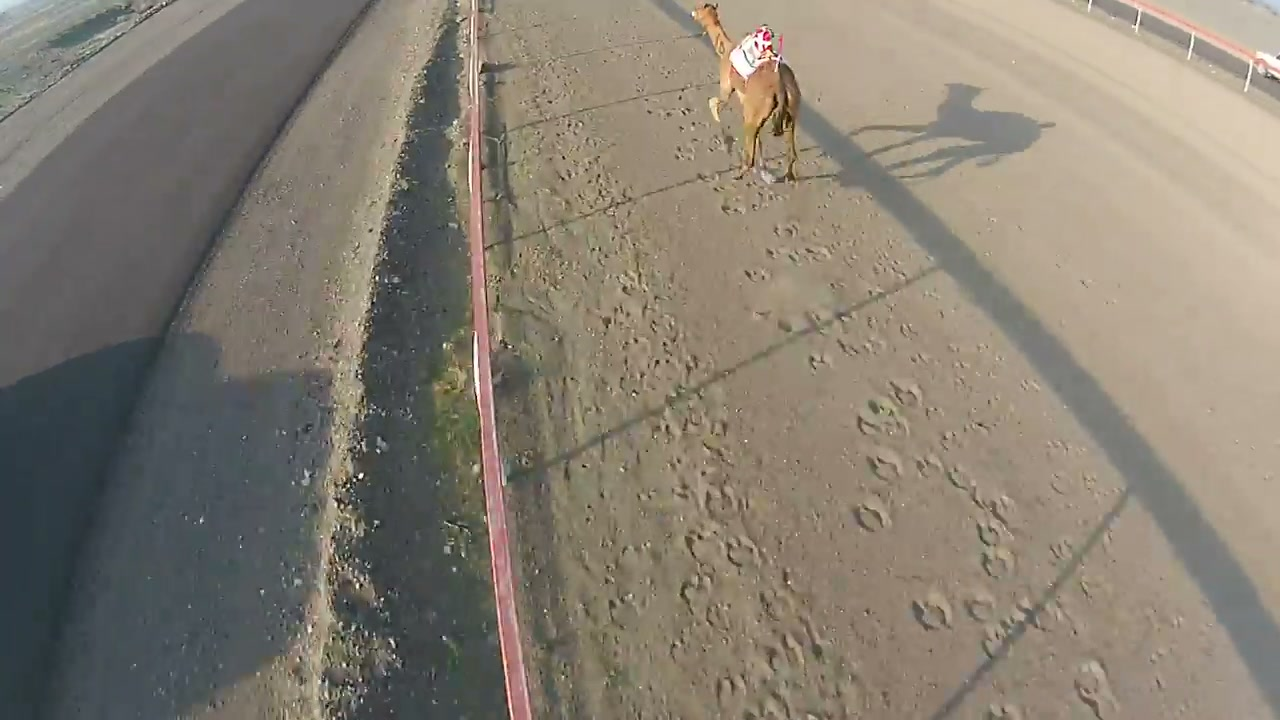animal_footprint: (673, 450, 842, 716), (682, 521, 845, 716), (673, 467, 749, 526), (818, 663, 870, 718), (1074, 659, 1119, 719), (606, 543, 653, 588), (856, 396, 909, 435), (684, 521, 725, 570), (968, 481, 1013, 525), (971, 486, 1015, 530), (705, 597, 751, 636), (1013, 596, 1064, 631), (705, 483, 749, 521), (913, 588, 953, 629), (680, 574, 713, 616), (716, 673, 748, 716), (867, 445, 904, 481), (854, 495, 891, 531), (759, 587, 797, 621), (608, 591, 642, 629), (962, 587, 996, 622), (774, 631, 805, 669), (725, 535, 760, 567), (981, 547, 1014, 579), (837, 336, 887, 357), (889, 377, 923, 407), (977, 516, 1009, 546), (982, 623, 1009, 658), (945, 464, 975, 491), (915, 452, 944, 477), (983, 702, 1024, 719), (1050, 538, 1073, 561), (773, 221, 799, 240), (674, 140, 697, 161), (809, 351, 832, 370), (744, 268, 771, 282)
